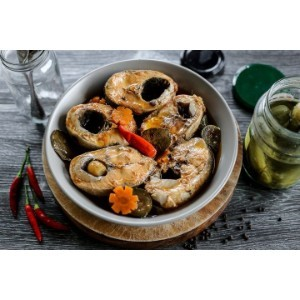sardine_brain food: (66, 78, 200, 209)
